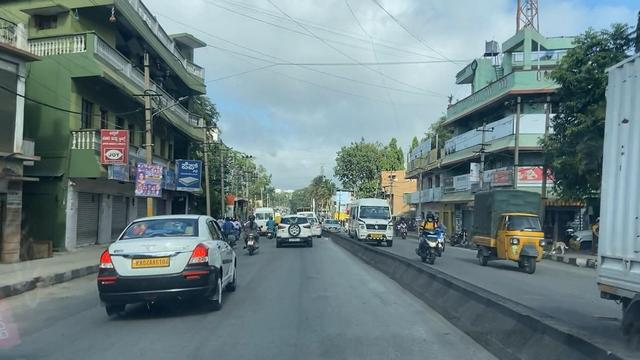LMV: (96, 218, 236, 321), (277, 216, 312, 248), (245, 215, 258, 256)
